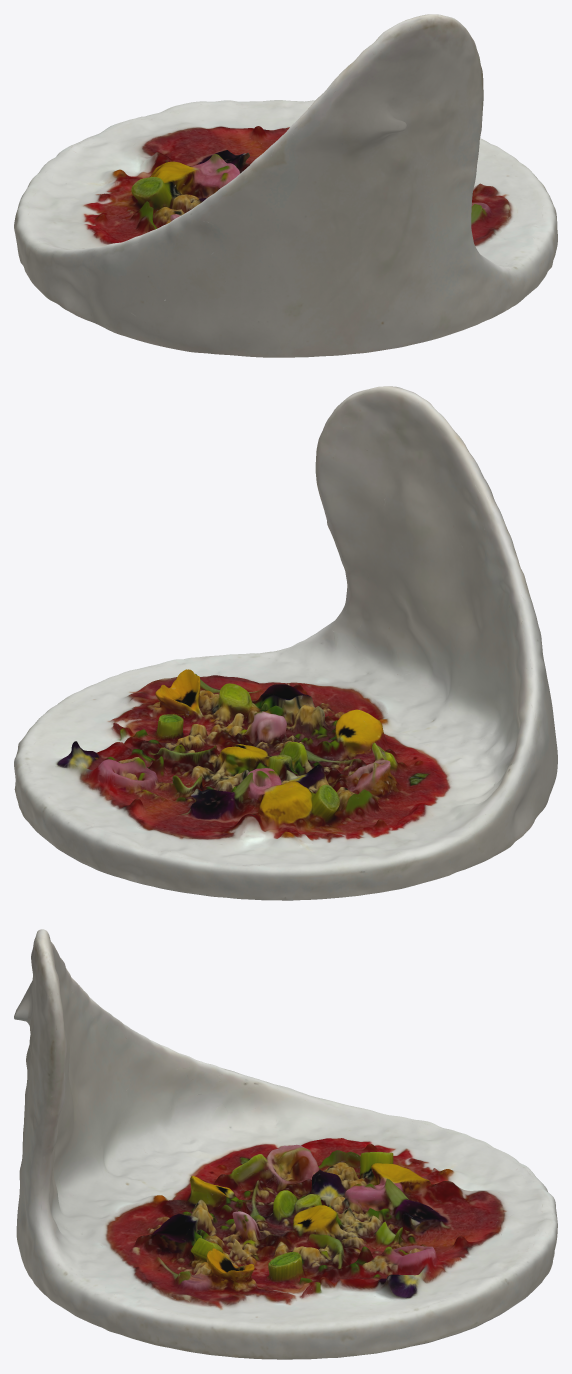
File: filet_boeuf.glb
3 renders of one model, top to bottom at view 1: azimuth 30°, elevation 25°; view 2: azimuth 150°, elevation 25°; view 3: azimuth 270°, elevation 25°, orthographic.
Visible parts, largest first — view 1: _0FEE4560_DD3A_4705_AA71_ED6C70113A28; view 2: _0FEE4560_DD3A_4705_AA71_ED6C70113A28; view 3: _0FEE4560_DD3A_4705_AA71_ED6C70113A28.
Boxes of the visible parts, x1,y1,x2,y2 form: _0FEE4560_DD3A_4705_AA71_ED6C70113A28: (14, 14, 557, 357); _0FEE4560_DD3A_4705_AA71_ED6C70113A28: (14, 386, 557, 900); _0FEE4560_DD3A_4705_AA71_ED6C70113A28: (14, 929, 557, 1359).
Bounding box in the file's own units: 0.2343 × 0.1495 × 0.2362.
1 material, 1 textured.
